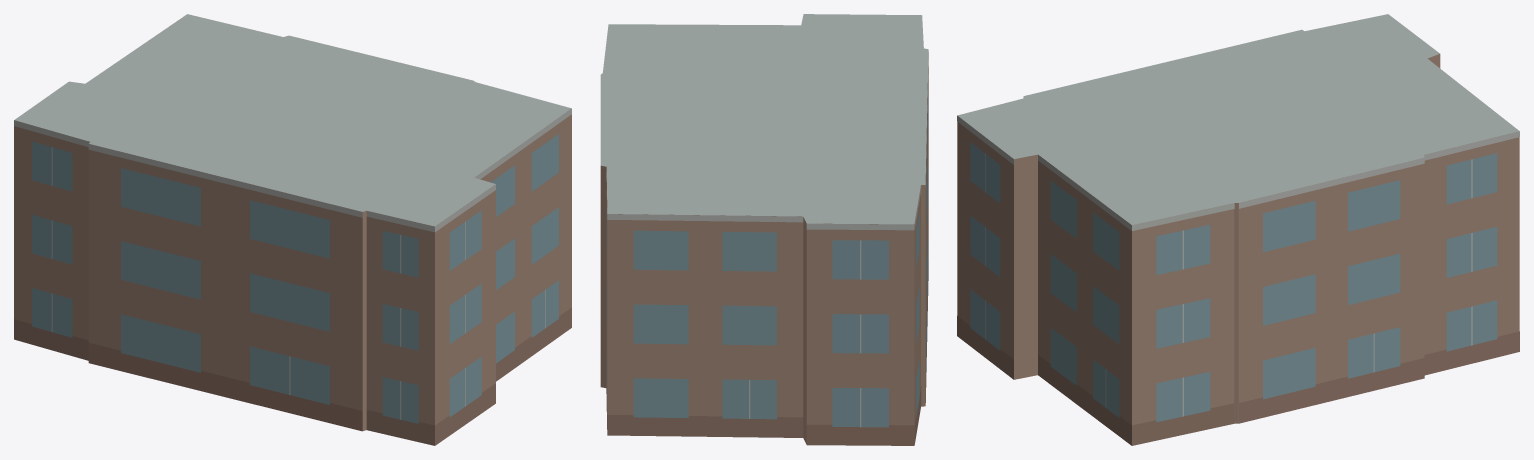
The model's file is survey-upis-32596867.glb.
The picture shows the model from 3 angles, left to right: view 1: azimuth 30°, elevation 25°; view 2: azimuth 150°, elevation 25°; view 3: azimuth 270°, elevation 25°; orthographic projection.
Visible parts, largest first — view 1: survey-upis-32596867.tmp; view 2: survey-upis-32596867.tmp; view 3: survey-upis-32596867.tmp.
Part boxes in pixels (x1,y1,x2,y2): survey-upis-32596867.tmp: (14,14,571,445); survey-upis-32596867.tmp: (600,14,928,445); survey-upis-32596867.tmp: (957,14,1519,445).
Size of the model in its own units: 18.8 by 9.15 by 21.15.
